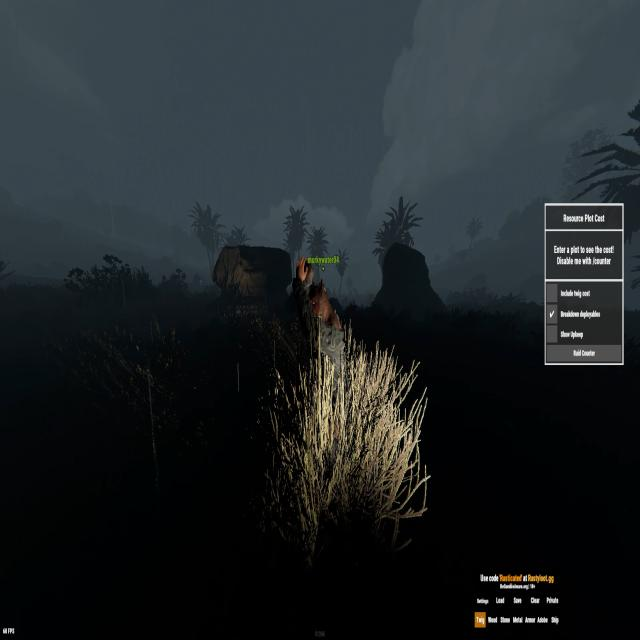Player: (291, 258, 349, 472)
